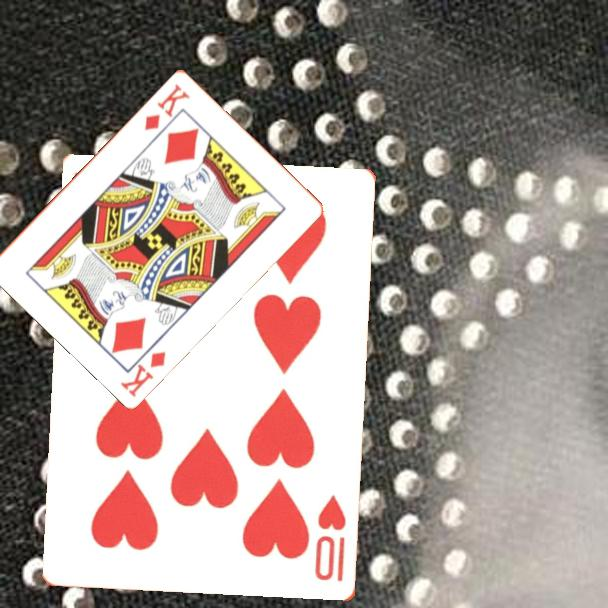d13: (141, 80, 193, 133), (117, 347, 169, 400)
h10: (311, 492, 350, 585)
